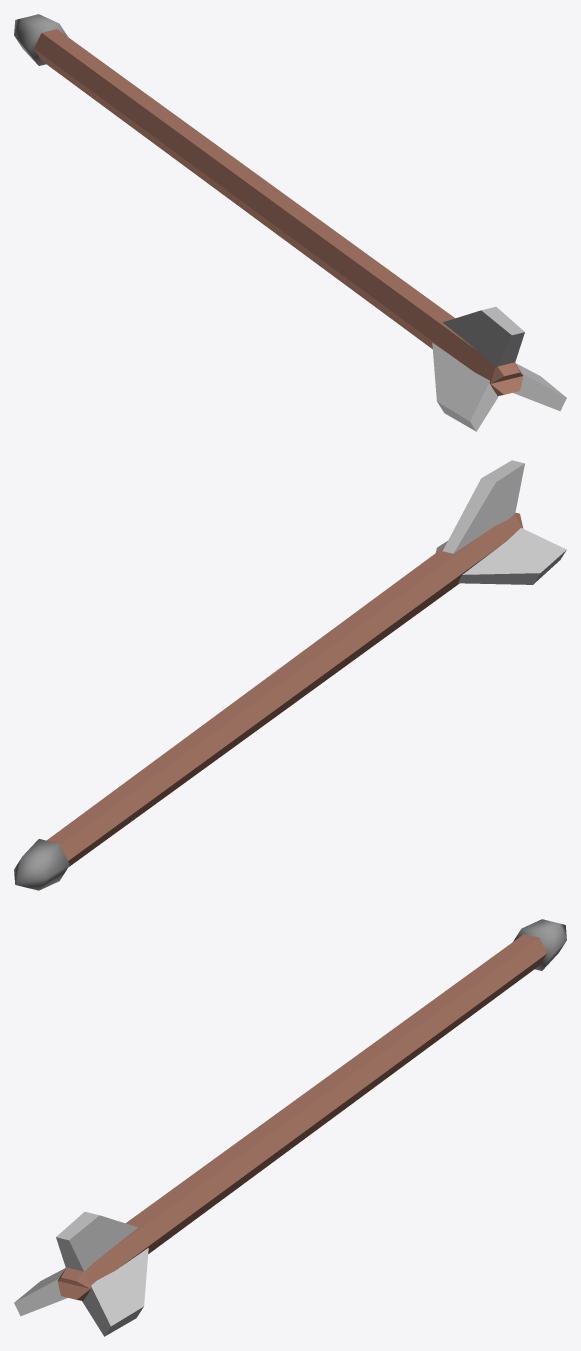
Rendered from bolt.glb.
The picture shows the model from 3 angles, top to bottom: view 1: azimuth 30°, elevation 25°; view 2: azimuth 150°, elevation 25°; view 3: azimuth 330°, elevation 25°; orthographic projection.
Parts seen in each view (by area): view 1: Cylinder.001; view 2: Cylinder.001; view 3: Cylinder.001.
Boxes of the visible parts, bbox=[...] form: Cylinder.001: bbox=[14, 14, 566, 431]; Cylinder.001: bbox=[14, 460, 566, 890]; Cylinder.001: bbox=[14, 919, 566, 1336].
Bounding box in the file's own units: 0.0491 × 0.0425 × 0.4129.
